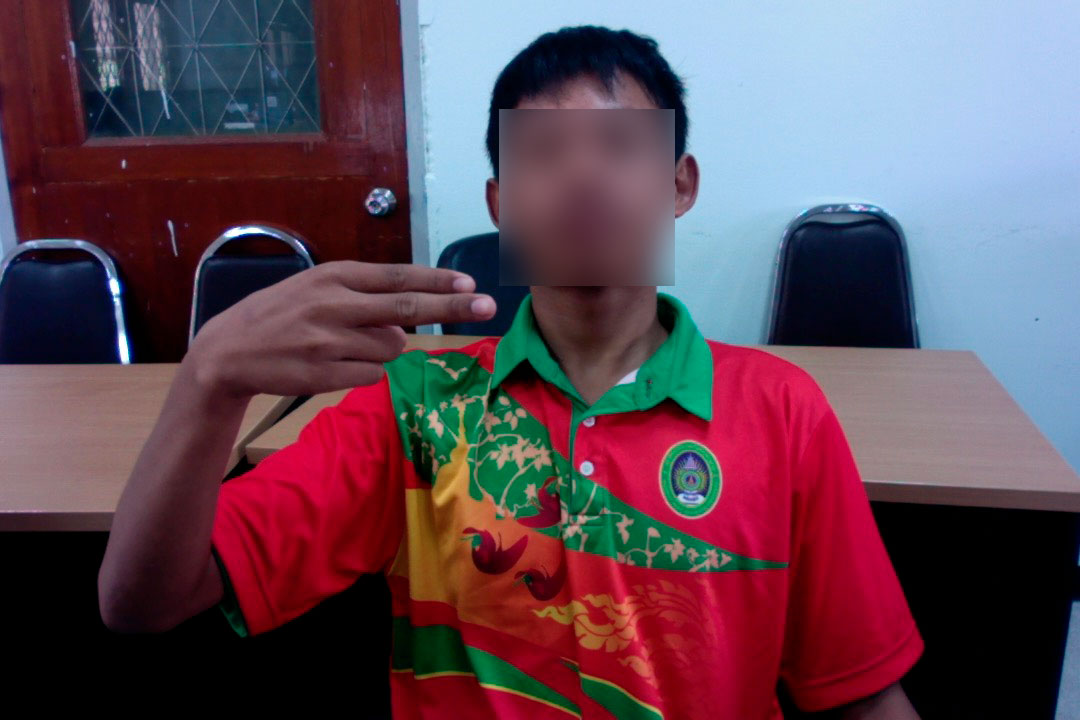hor: (186, 255, 501, 404)
